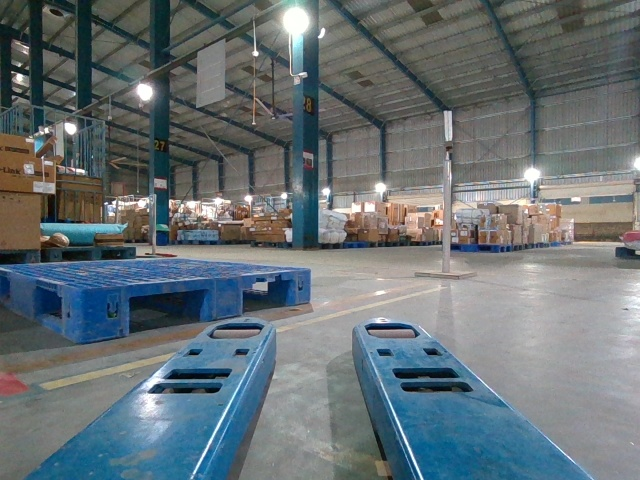block: (58, 283, 129, 346), (204, 275, 245, 322), (10, 273, 36, 320), (291, 269, 311, 306)
front: (81, 269, 312, 344)
hole pallet: (132, 289, 207, 330), (242, 281, 291, 315)
